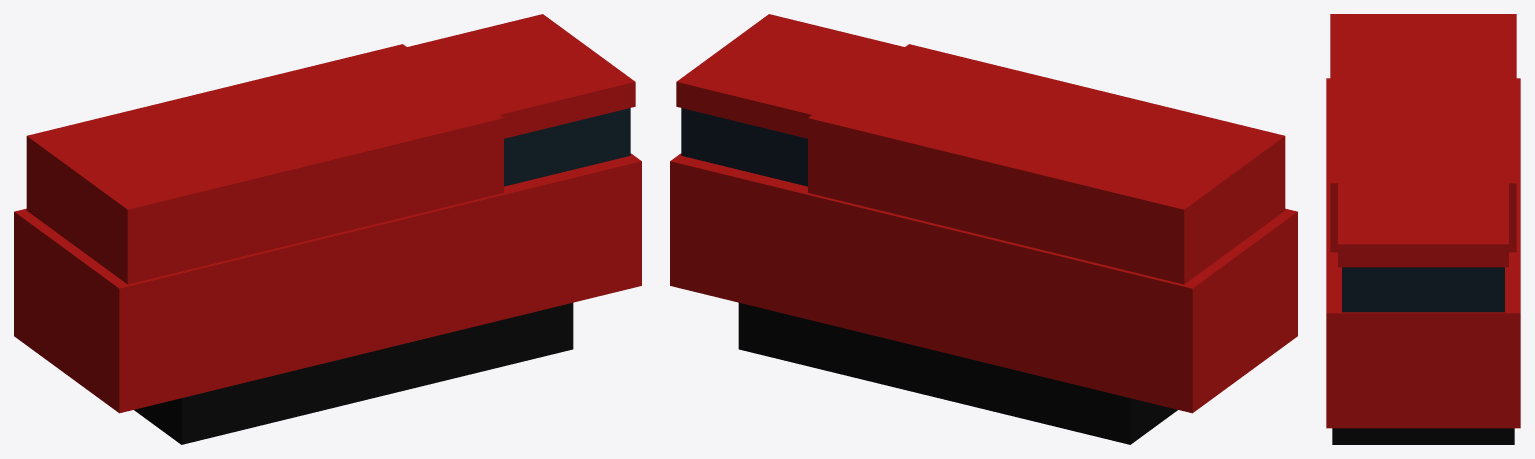
Rendered from fire_engine.lod2.obj.
3 views of the same model, side by side, from view 1: azimuth 30°, elevation 25°; view 2: azimuth 150°, elevation 25°; view 3: azimuth 270°, elevation 25° (orthographic). The views are drawn at different scales.
Visible parts, largest first — view 1: fire_engine; view 2: fire_engine; view 3: fire_engine.
Part boxes in pixels (x1,y1,x2,y2): fire_engine: [14, 14, 641, 444]; fire_engine: [670, 14, 1297, 444]; fire_engine: [1326, 14, 1520, 444].
Size of the model in its own units: 6.62 by 3.02 by 2.31.
